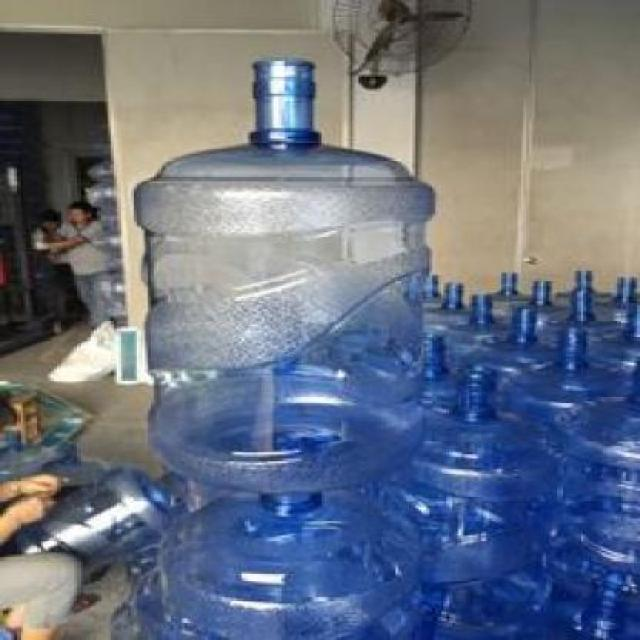coolerbottle: (129, 52, 444, 498)
